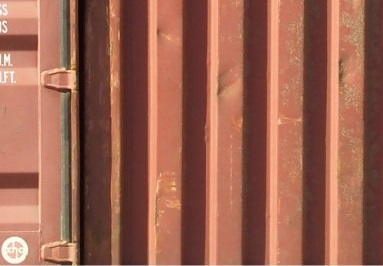container_no_door: (38, 3, 381, 262)
